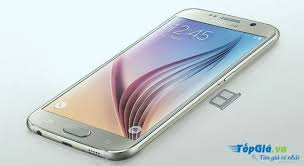samsung: (25, 5, 289, 157)
